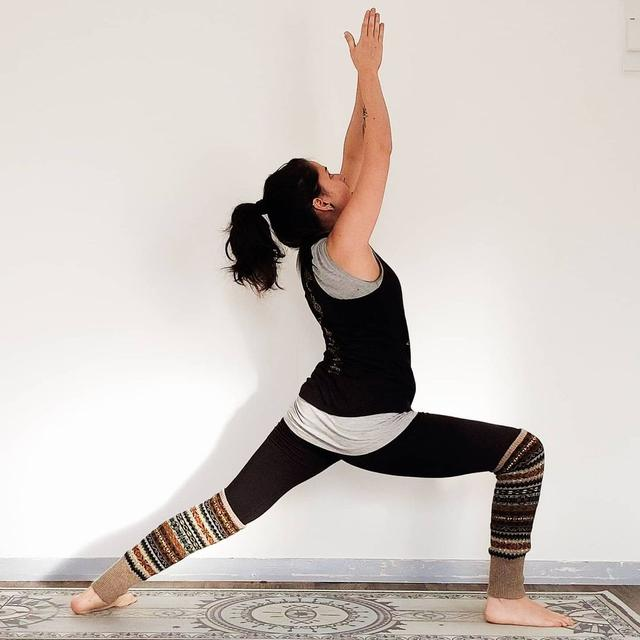Warrior_I: (58, 7, 581, 640)
